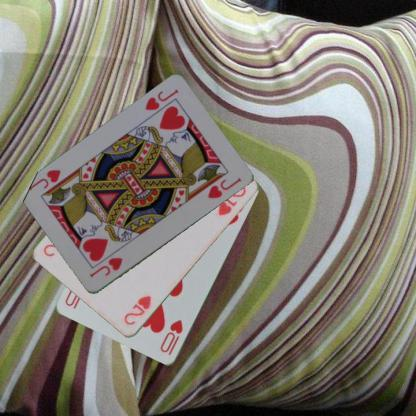10h: (157, 317, 184, 357)
2h: (122, 294, 152, 327)
Jh: (142, 87, 180, 112), (87, 255, 124, 279)
